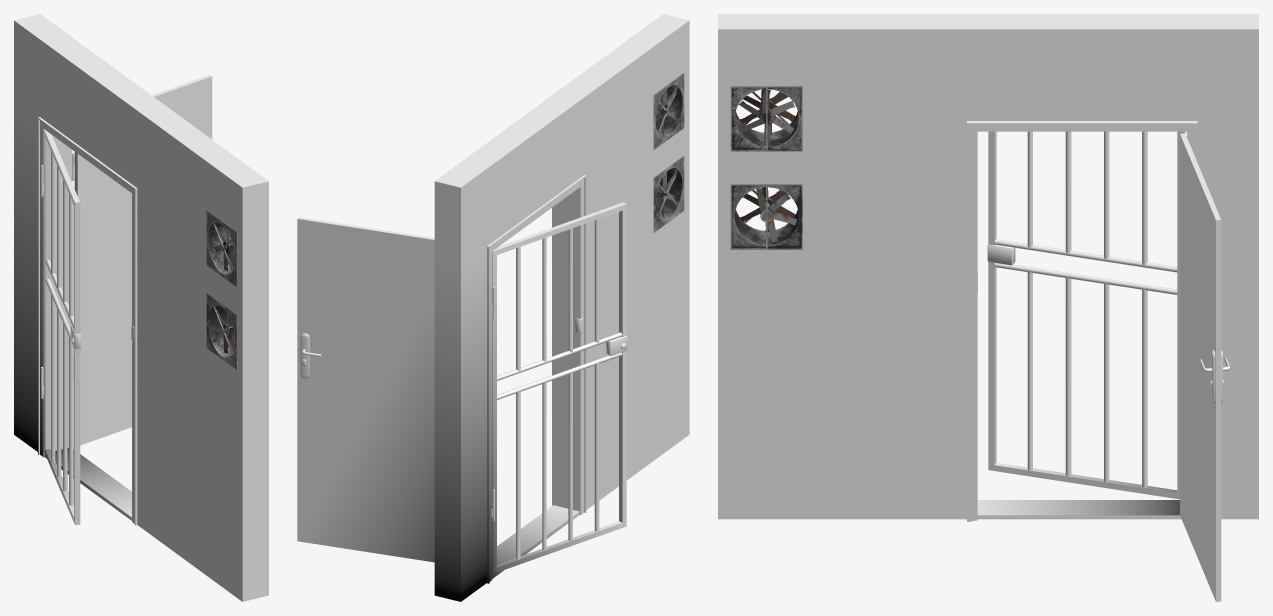
3 renders of one model, left to right at view 1: azimuth 30°, elevation 25°; view 2: azimuth 150°, elevation 25°; view 3: azimuth 270°, elevation 25°, orthographic. The views are drawn at different scales.
Visible parts, largest first — view 1: SM_BuildingA_DoorOpen_3m_C_LOD0; view 2: SM_BuildingA_DoorOpen_3m_C_LOD0; view 3: SM_BuildingA_DoorOpen_3m_C_LOD0.
Part boxes in pixels (x1,y1,x2,y2): SM_BuildingA_DoorOpen_3m_C_LOD0: [14, 14, 268, 601]; SM_BuildingA_DoorOpen_3m_C_LOD0: [297, 14, 689, 601]; SM_BuildingA_DoorOpen_3m_C_LOD0: [718, 14, 1258, 601].
Size of the model in its own units: 177 by 300 by 300.
4 materials, 1 textured.
